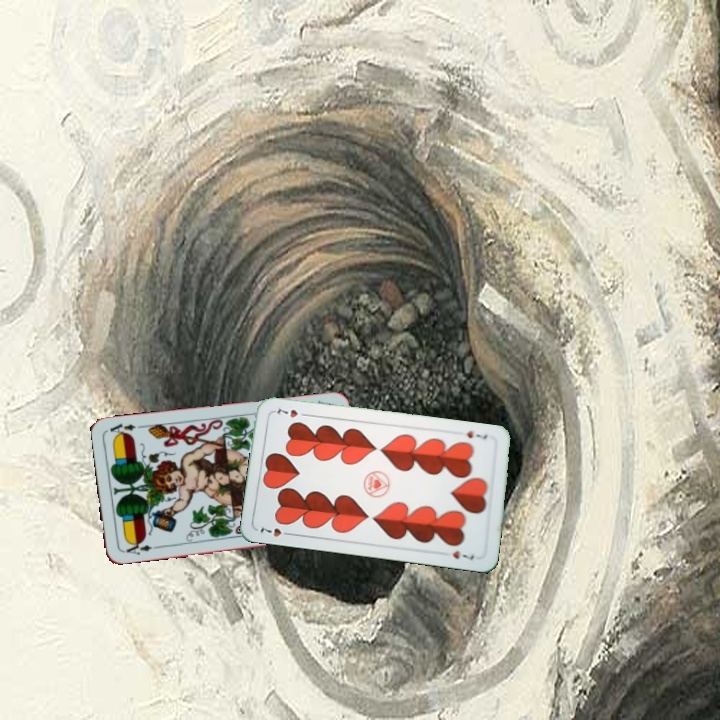EA: (119, 537, 154, 557)
H7: (255, 523, 295, 539), (462, 427, 490, 442)
